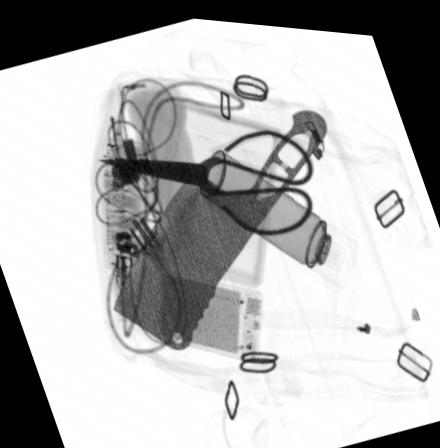Knife: (113, 104, 328, 346)
Powerbank: (154, 264, 262, 360)
Scissors: (93, 123, 316, 230)
Sprayer: (197, 142, 357, 280)
